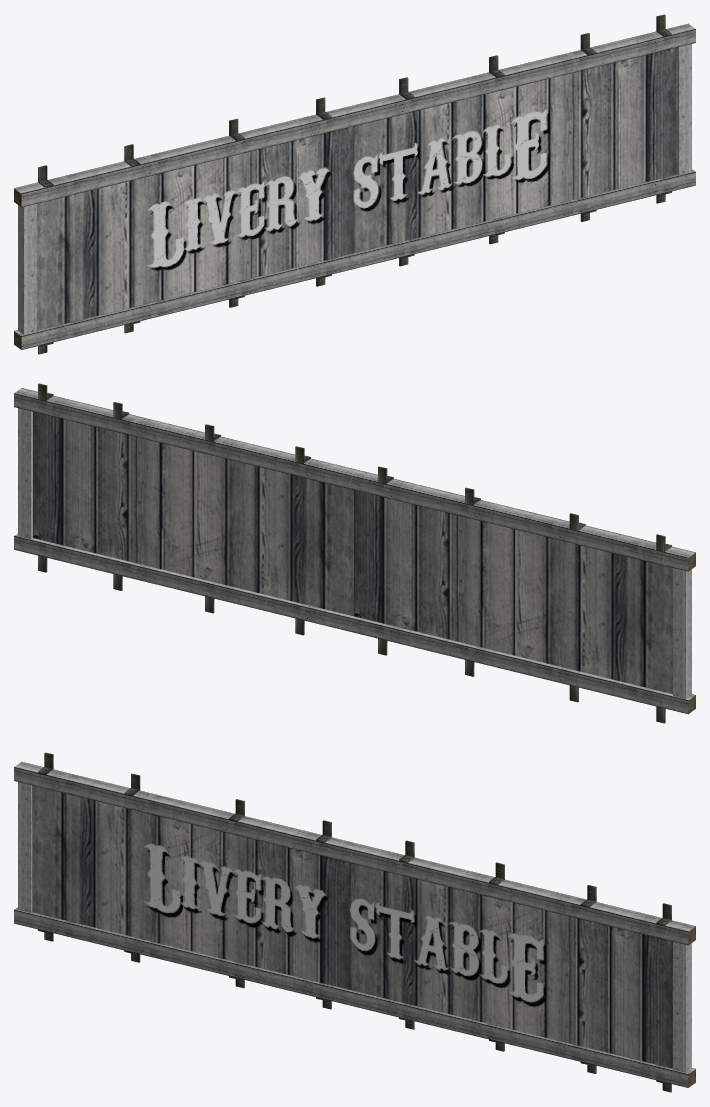
File: signs-10.fbx
3 renders of one model, top to bottom at view 1: azimuth 30°, elevation 25°; view 2: azimuth 150°, elevation 25°; view 3: azimuth 330°, elevation 25°, orthographic.
Parts seen in each view (by area): view 1: Cube.144; view 2: Cube.144; view 3: Cube.144.
Boxes of the visible parts, x1=… form: Cube.144: x1=14, y1=14, x2=695, y2=354; Cube.144: x1=14, y1=383, x2=695, y2=723; Cube.144: x1=14, y1=752, x2=695, y2=1092.
Bounding box in the file's own units: 4.95 × 1.31 × 0.096.
